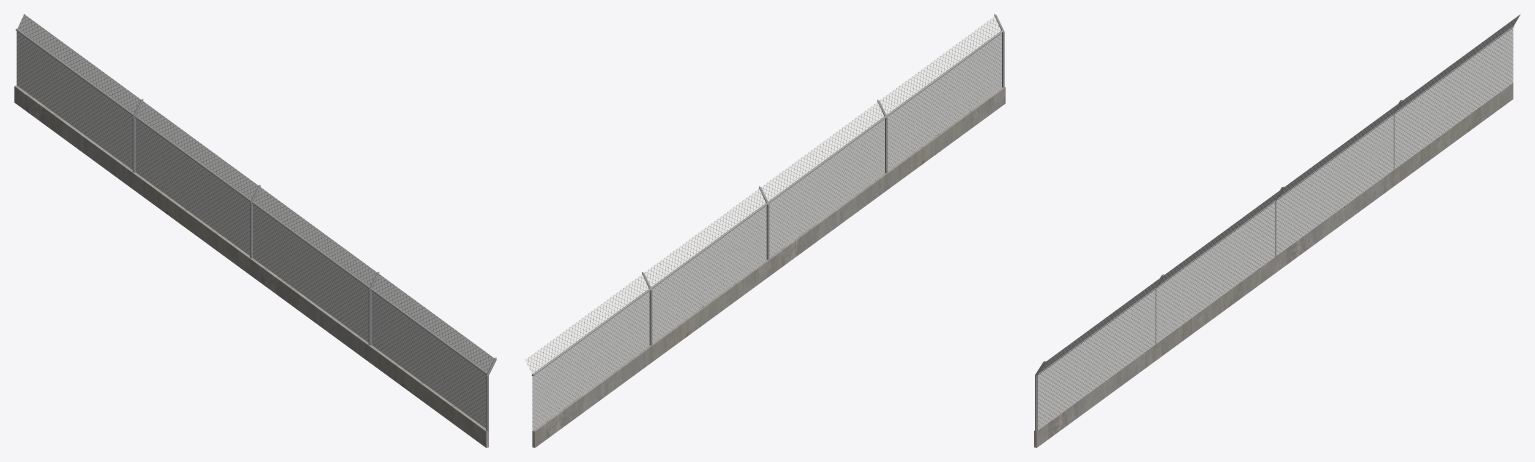
File: Fence__X2_.fbx
3 renders of one model, left to right at view 1: azimuth 30°, elevation 25°; view 2: azimuth 150°, elevation 25°; view 3: azimuth 330°, elevation 25°, orthographic.
Parts seen in each view (by area): view 1: polySurface6; view 2: polySurface6; view 3: polySurface6.
Boxes of the visible parts, x1,y1,x2,y2 form: polySurface6: [14, 14, 496, 447]; polySurface6: [525, 14, 1005, 447]; polySurface6: [1034, 14, 1520, 447].
Bounding box in the file's own units: 0.6998 × 5.33 × 52.16.
